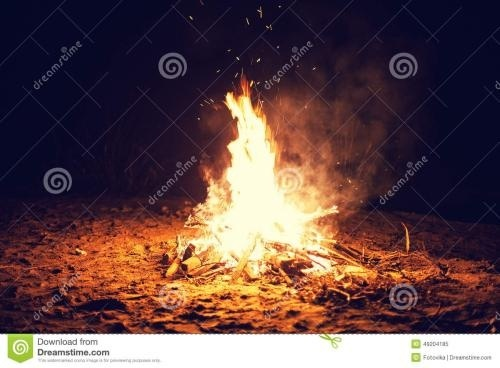fire: (189, 84, 336, 279)
